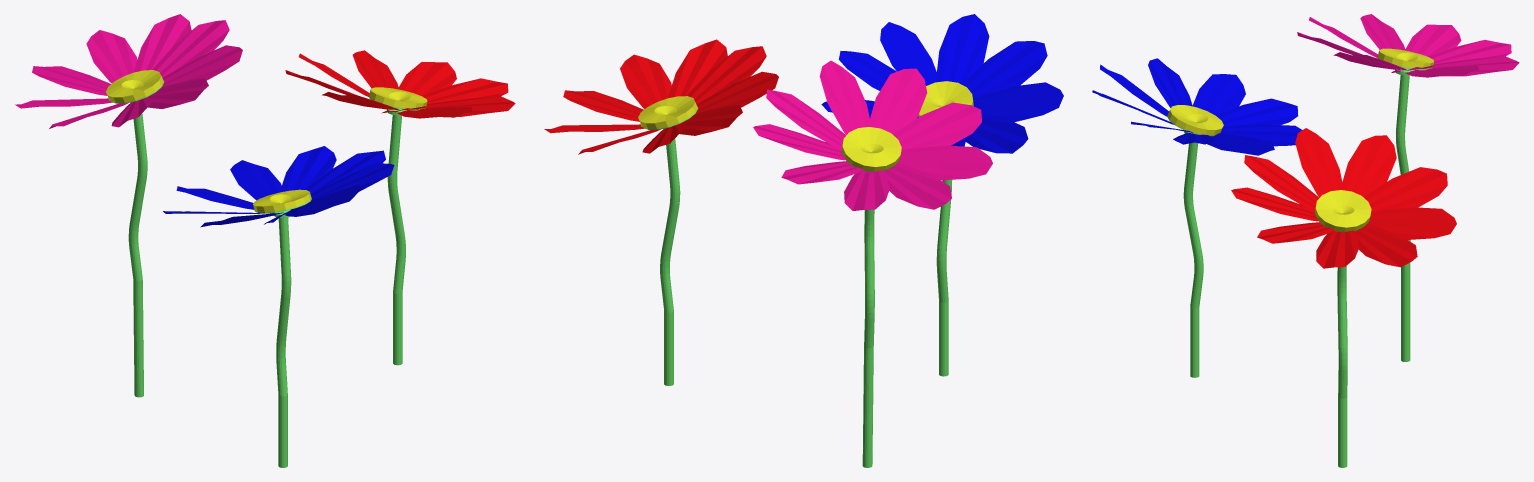
File: Blumengruppe2test.fbx
3 renders of one model, left to right at view 1: azimuth 30°, elevation 25°; view 2: azimuth 150°, elevation 25°; view 3: azimuth 270°, elevation 25°, orthographic. The views are drawn at different scales.
Visible parts, largest first — view 1: Circle.004, Circle.001, Circle.003, Circle.005, Circle.002, Circle.006; view 2: Circle.004, Circle.001, Circle.003, Circle.005, Circle.006, Circle.002; view 3: Circle.003, Circle.001, Circle.004, Circle.006, Circle.002, Circle.005.
Boxes of the visible parts, <box> form: Circle.004: <box>15,14,242,128</box>; Circle.001: <box>163,146,394,227</box>; Circle.003: <box>285,50,515,118</box>; Circle.005: <box>106,70,164,397</box>; Circle.002: <box>253,189,311,467</box>; Circle.006: <box>369,87,427,365</box>; Circle.004: <box>753,60,992,210</box>; Circle.001: <box>821,14,1063,153</box>; Circle.003: <box>544,39,778,154</box>; Circle.005: <box>841,127,901,467</box>; Circle.006: <box>638,96,698,385</box>; Circle.002: <box>918,81,973,376</box>; Circle.003: <box>1231,128,1456,268</box>; Circle.001: <box>1092,58,1302,155</box>; Circle.004: <box>1297,14,1519,77</box>; Circle.006: <box>1314,190,1371,467</box>; Circle.002: <box>1167,105,1223,377</box>; Circle.005: <box>1377,48,1434,361</box>.
Size of the model in its own units: 1726 by 1334 by 1515.
